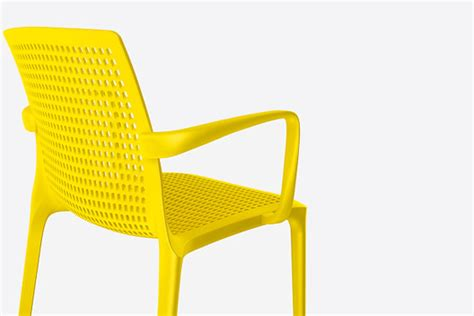???: (1, 25, 306, 316)
